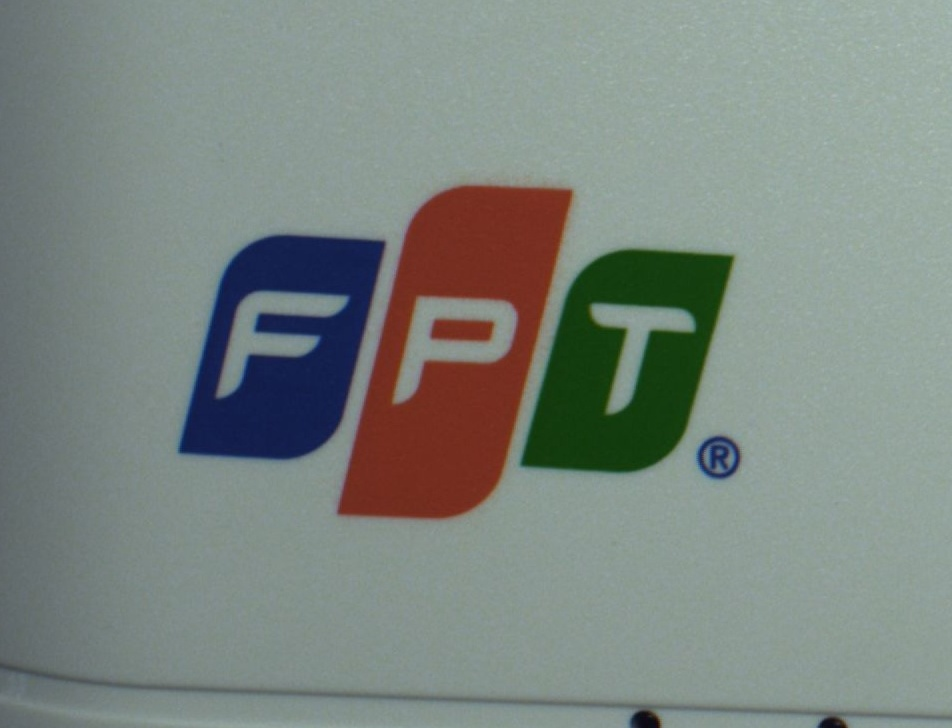BR_FPT: (164, 174, 748, 519)
